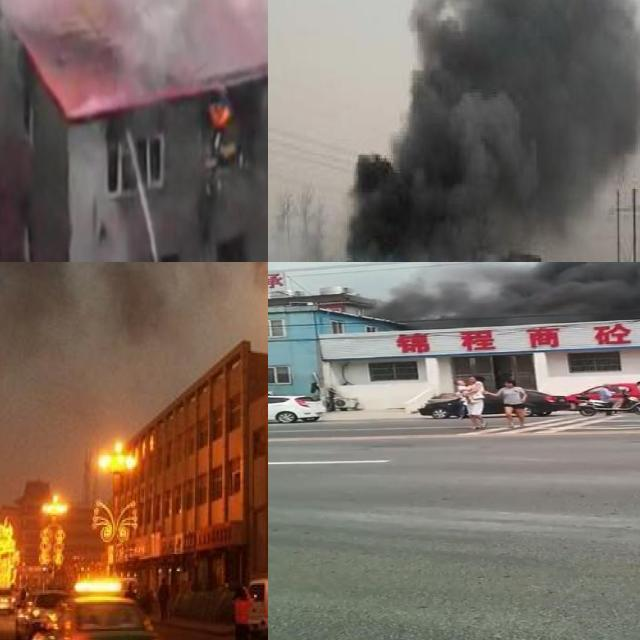fire: (208, 100, 231, 126)
smoke: (268, 0, 640, 262), (0, 262, 268, 371), (0, 0, 268, 69), (379, 262, 640, 325)
